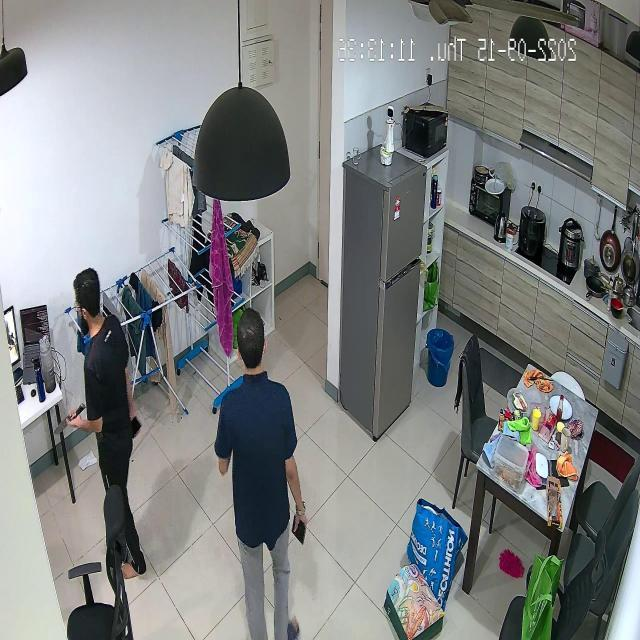Knife: (48, 402, 100, 445)
